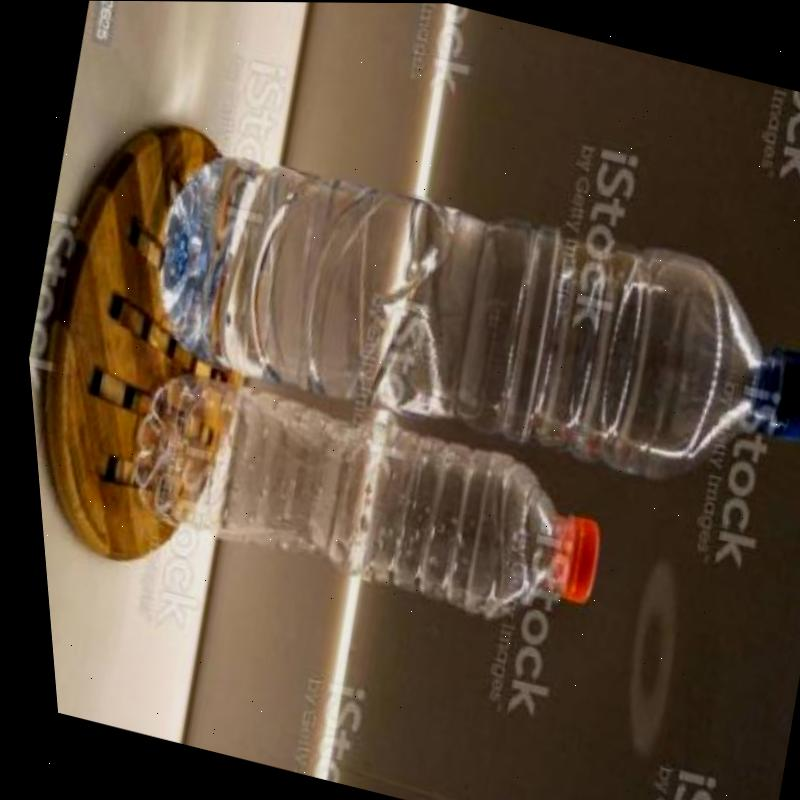botella: (125, 121, 800, 515), (98, 359, 613, 645)
